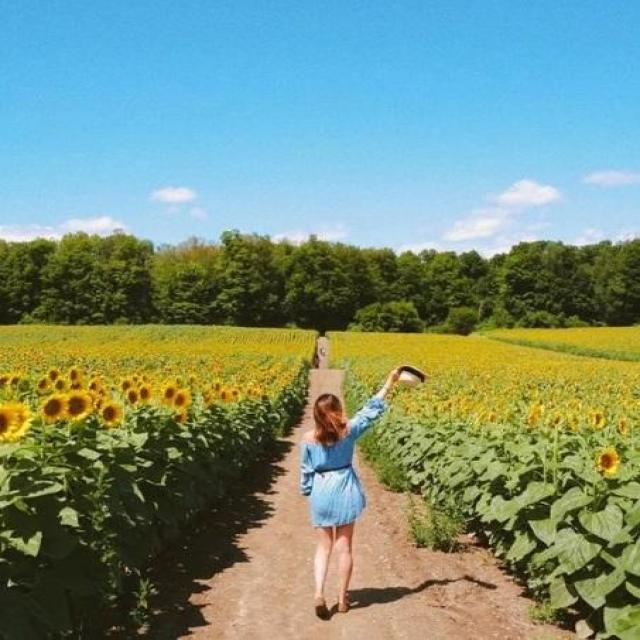row: (42, 366, 561, 640)
